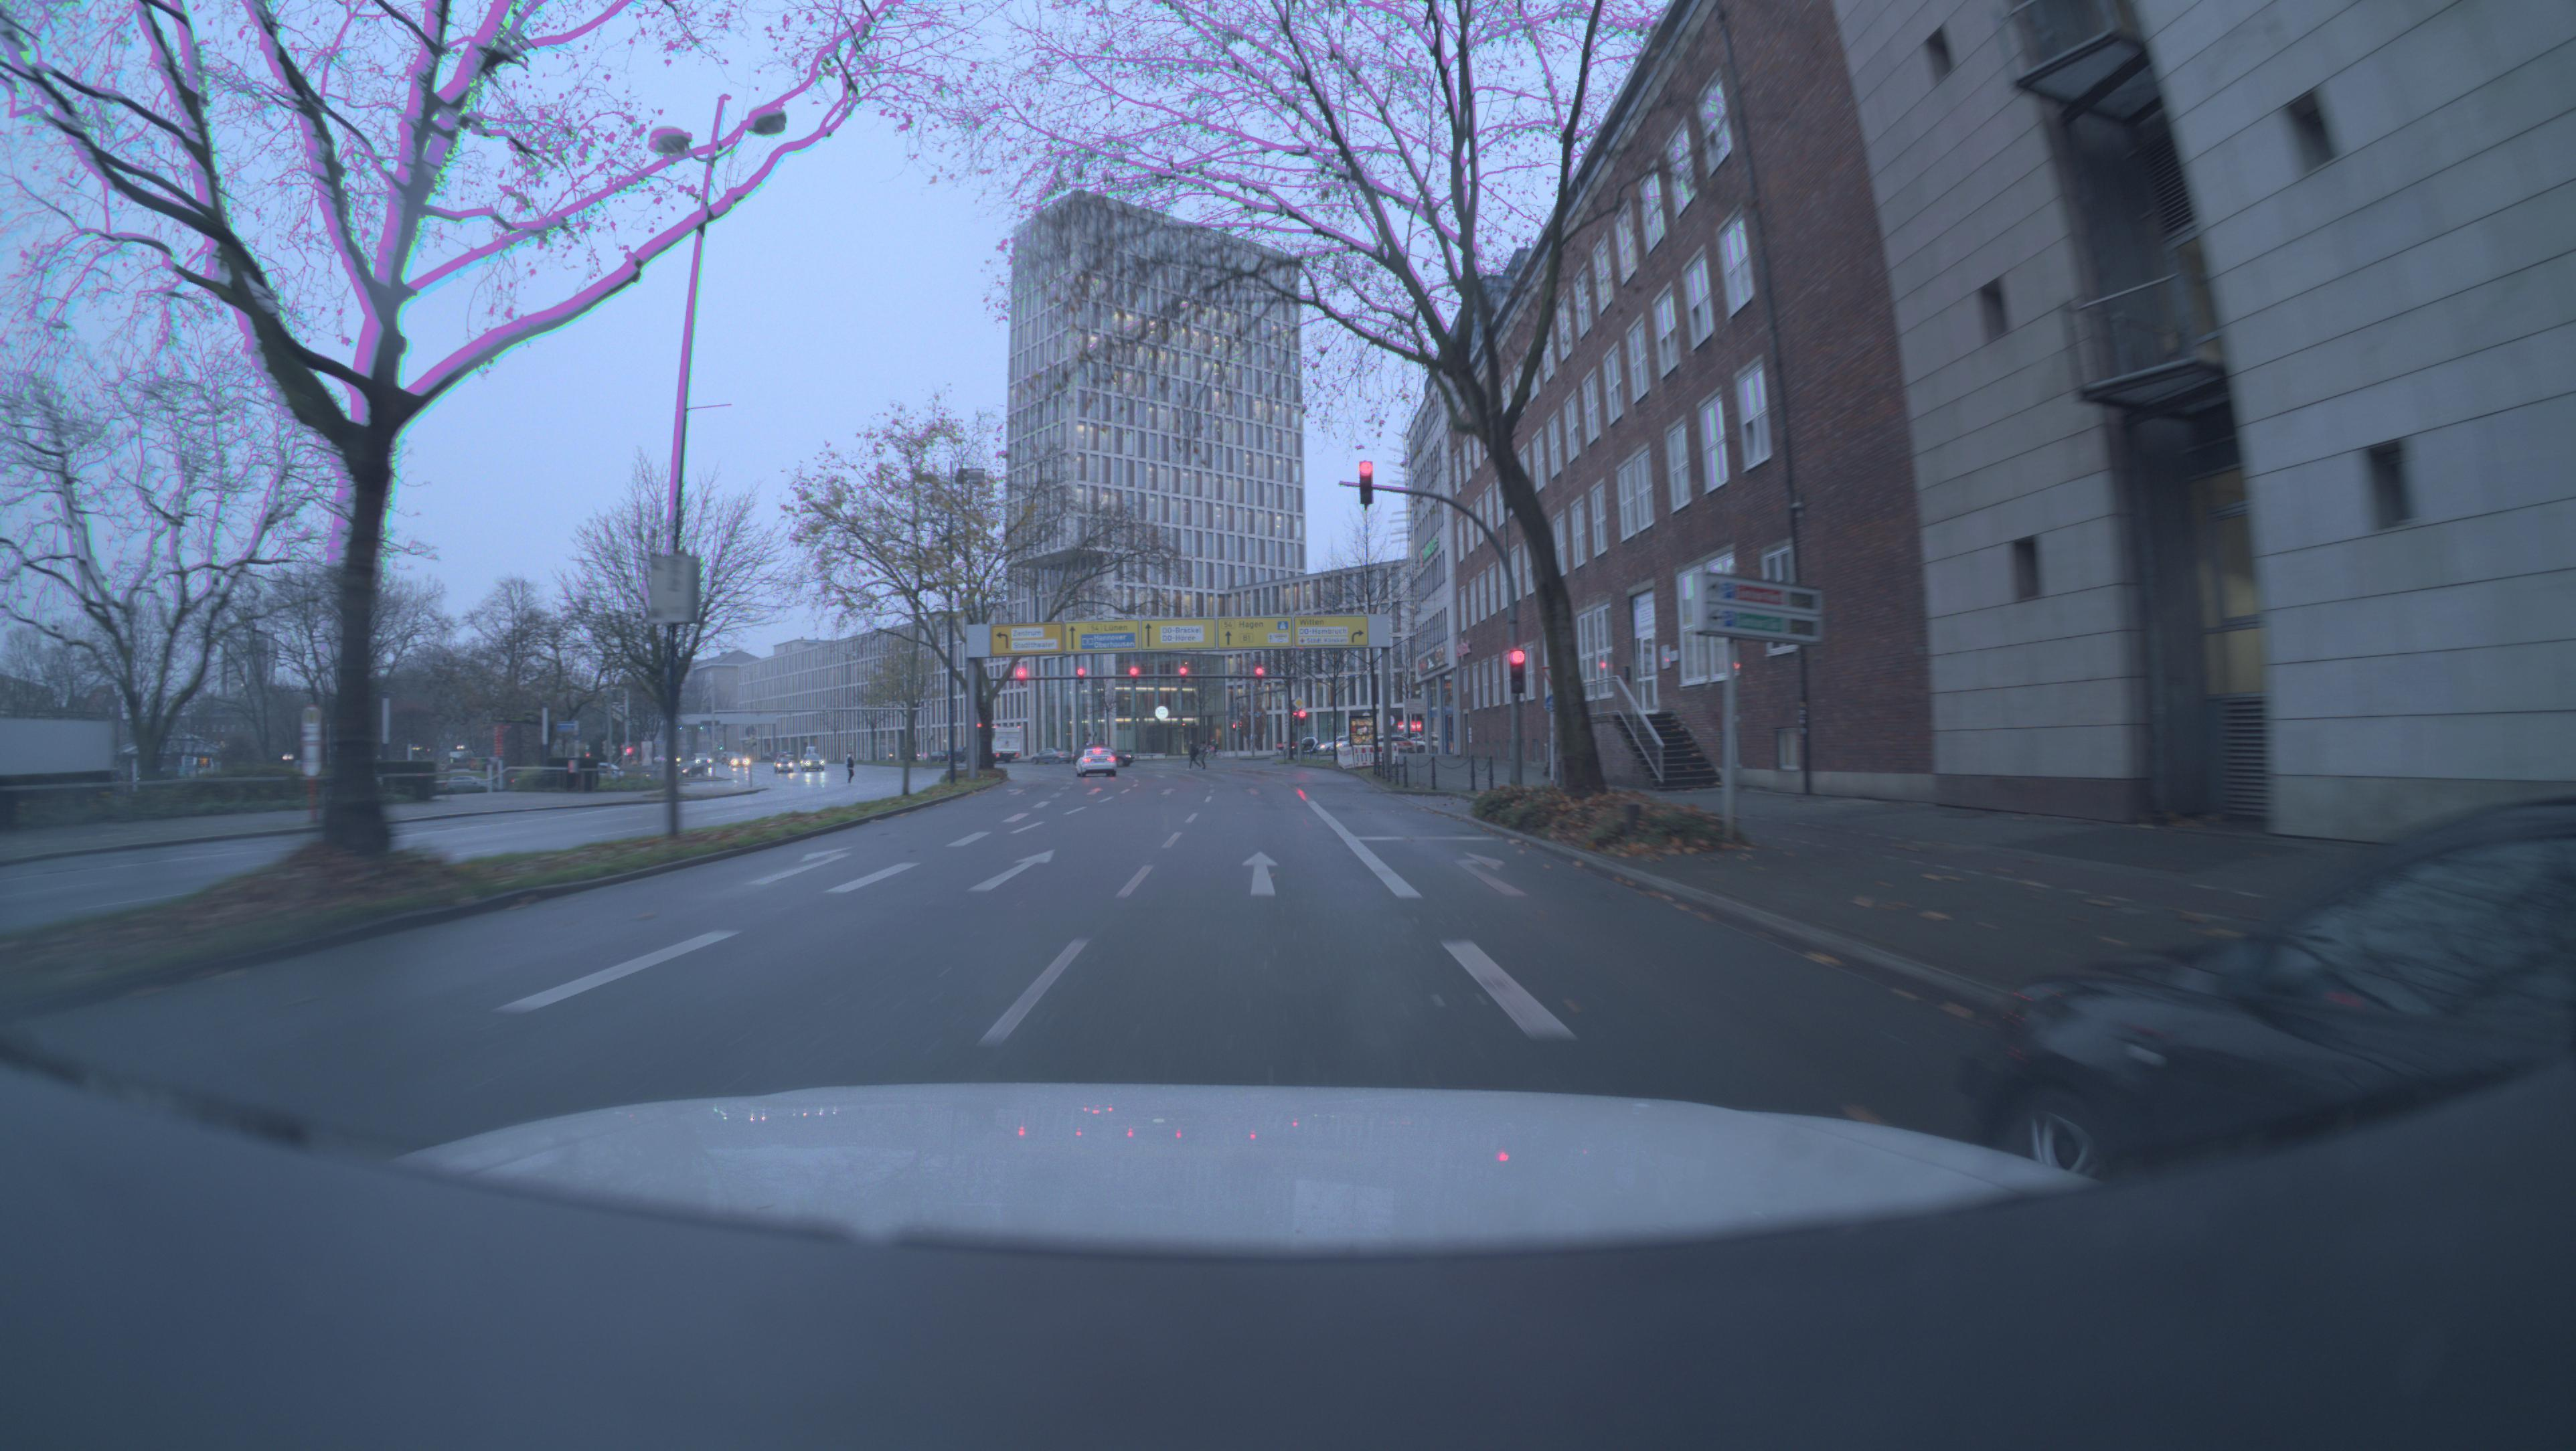red: (1509, 649, 1527, 694), (1359, 462, 1373, 504)
